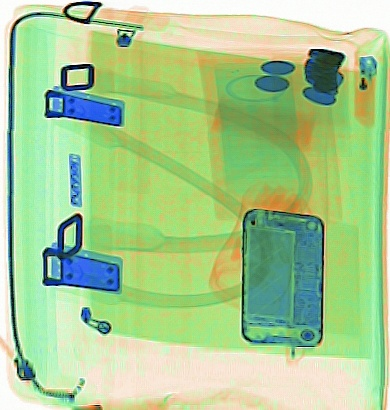lighter: (352, 53, 378, 128)
